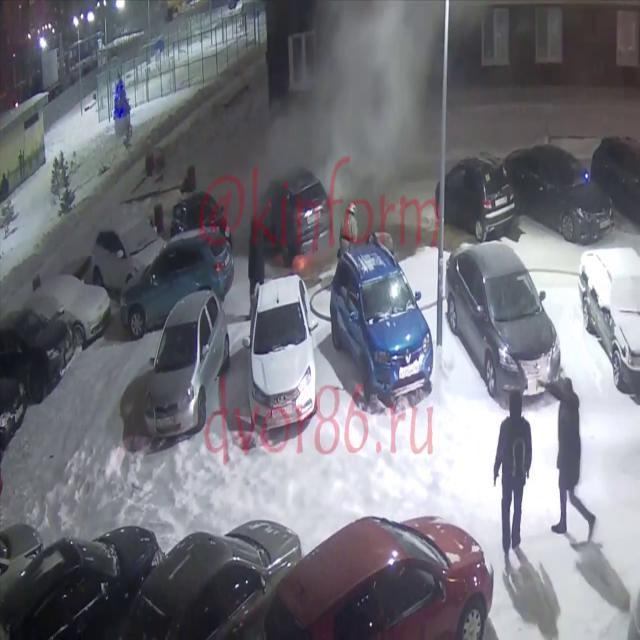Smoke: (206, 2, 561, 218)
